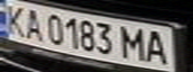0: (42, 11, 66, 46)
1: (60, 15, 81, 49)
3: (93, 20, 118, 56)
8: (78, 17, 96, 53)
A: (142, 27, 175, 65), (18, 7, 48, 42)
K: (0, 2, 30, 36)
M: (118, 24, 151, 61)
